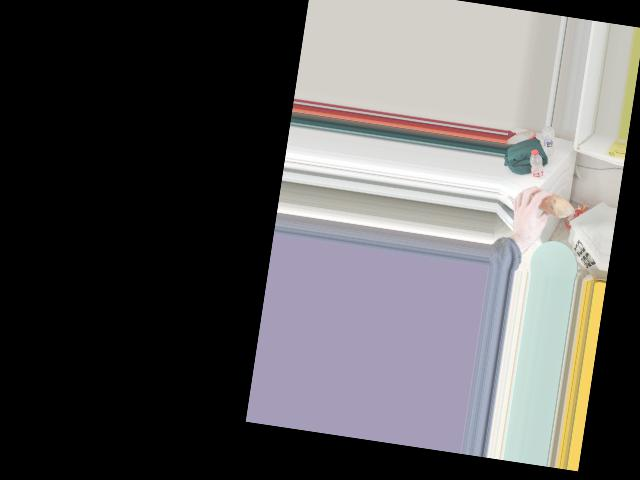sweet_potato: (524, 190, 574, 218)
